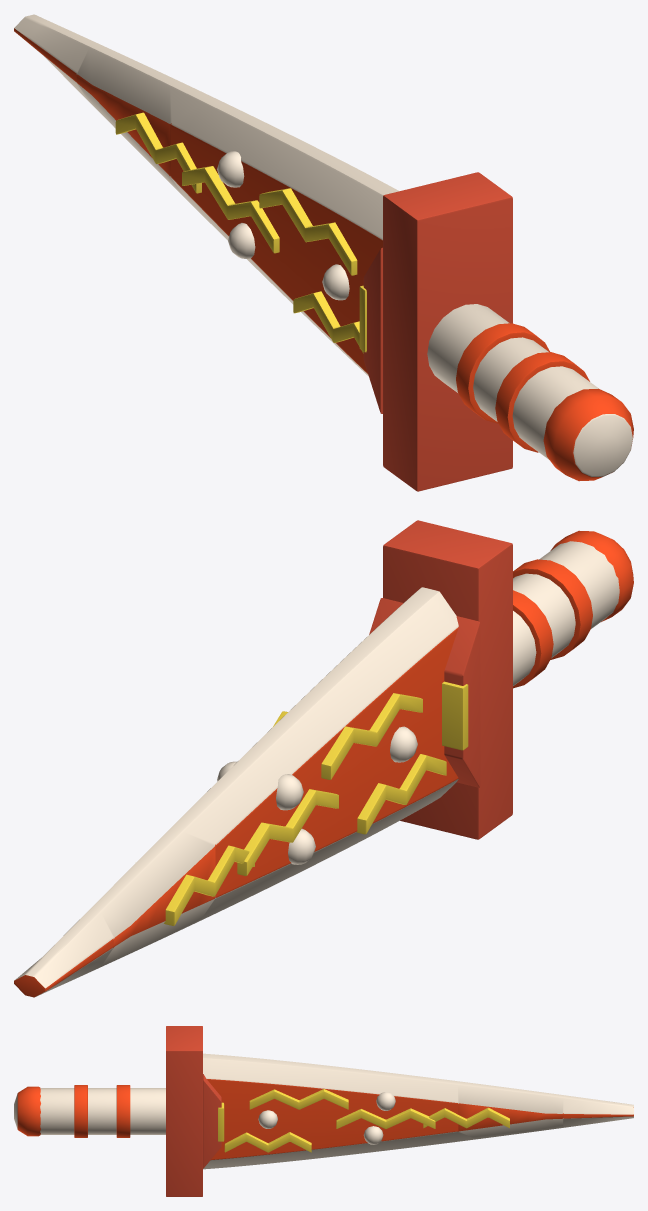
The model's file is Sword_PyroclastGreatsword.glb.
3 renders of one model, top to bottom at view 1: azimuth 30°, elevation 25°; view 2: azimuth 150°, elevation 25°; view 3: azimuth 270°, elevation 25°, orthographic. The views are drawn at different scales.
Visible parts, largest first — view 1: Sword_PyroclastGreatsword; view 2: Sword_PyroclastGreatsword; view 3: Sword_PyroclastGreatsword.
Part boxes in pixels (x1=…): Sword_PyroclastGreatsword: x1=14, y1=14, x2=633, y2=491; Sword_PyroclastGreatsword: x1=14, y1=520, x2=633, y2=997; Sword_PyroclastGreatsword: x1=14, y1=1026, x2=633, y2=1196.
Bounding box in the file's own units: 0.104 × 0.26 × 1.
1 material, 1 textured.
